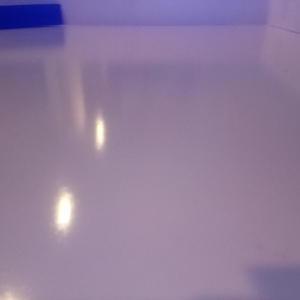zone: (1, 3, 63, 29)
